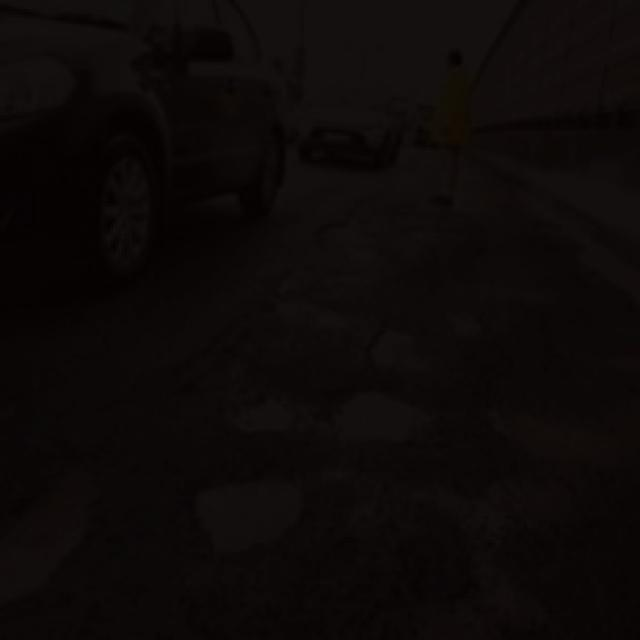Pothole: (420, 472, 588, 630), (0, 447, 113, 612), (180, 456, 328, 560), (307, 368, 437, 453), (483, 399, 625, 466), (302, 189, 389, 286), (266, 286, 368, 352), (210, 379, 313, 432), (363, 313, 421, 379)
